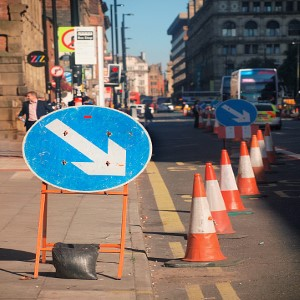traffic cone: (164, 173, 245, 266), (185, 161, 247, 239), (206, 148, 253, 213), (232, 140, 268, 198), (240, 134, 277, 184)
